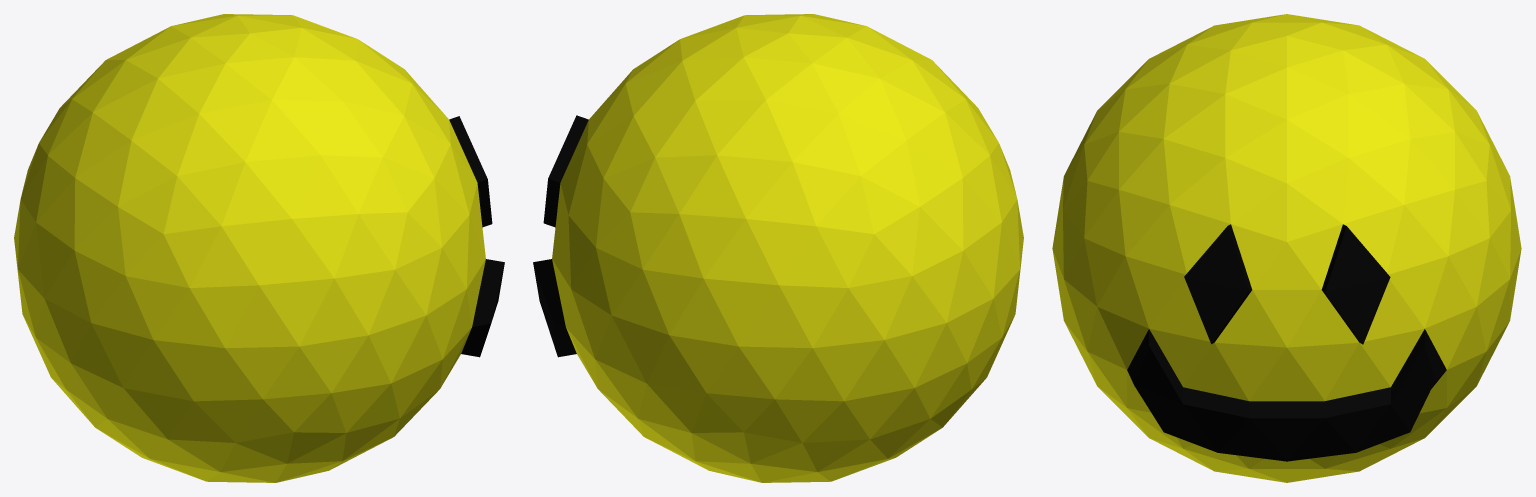
The model's file is head.glb.
3 renders of one model, left to right at view 1: azimuth 30°, elevation 25°; view 2: azimuth 150°, elevation 25°; view 3: azimuth 270°, elevation 25°, orthographic.
Visible parts, largest first — view 1: Icosphere.001; view 2: Icosphere.001; view 3: Icosphere.001.
Boxes of the visible parts, x1,y1,x2,y2 form: Icosphere.001: (14,14,504,482); Icosphere.001: (533,14,1023,482); Icosphere.001: (1052,14,1521,482).
Size of the model in its own units: 2.04 by 2 by 2.
